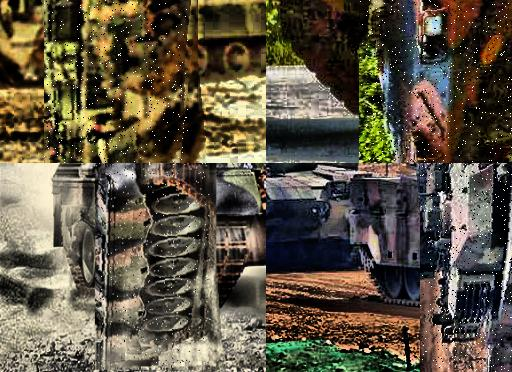tanks: (360, 1, 512, 164), (96, 164, 211, 370), (45, 1, 189, 164), (421, 164, 512, 372), (267, 164, 357, 251)
